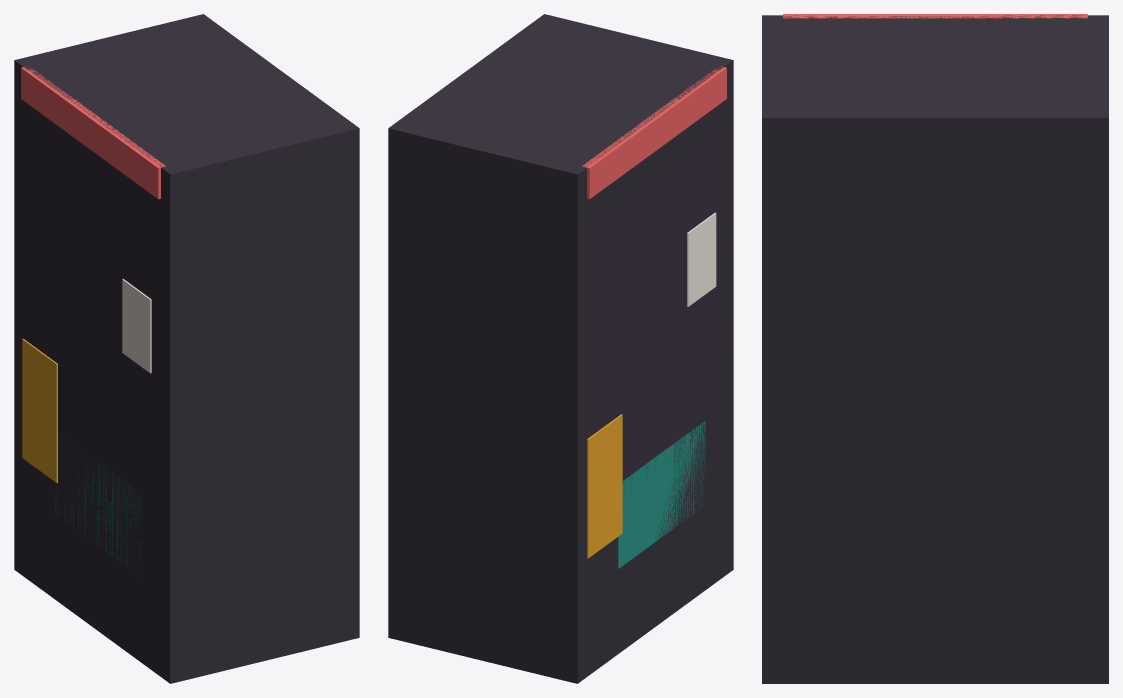
Rendered from vending_machine.glb.
3 renders of one model, left to right at view 1: azimuth 30°, elevation 25°; view 2: azimuth 150°, elevation 25°; view 3: azimuth 270°, elevation 25°, orthographic. The views are drawn at different scales.
Visible parts, largest first — view 1: cabinet, display_window, brand_strip, coin_door, keypad, delivery_flap; view 2: cabinet, display_window, delivery_flap, brand_strip, coin_door, keypad; view 3: cabinet, brand_strip.
Part boxes in pixels (x1,y1,x2,y2): cabinet: (14, 14, 359, 683); display_window: (25, 131, 159, 552); brand_strip: (21, 66, 165, 199); coin_door: (22, 339, 57, 482); keypad: (122, 279, 151, 373); delivery_flap: (55, 447, 141, 573); cabinet: (388, 14, 733, 683); display_window: (588, 131, 722, 483); delivery_flap: (618, 421, 705, 568); brand_strip: (582, 66, 726, 199); coin_door: (587, 414, 622, 558); keypad: (687, 212, 716, 306); cabinet: (762, 15, 1108, 683); brand_strip: (783, 14, 1087, 18).
Size of the model in its own units: 0.71 by 1.8 by 1.
